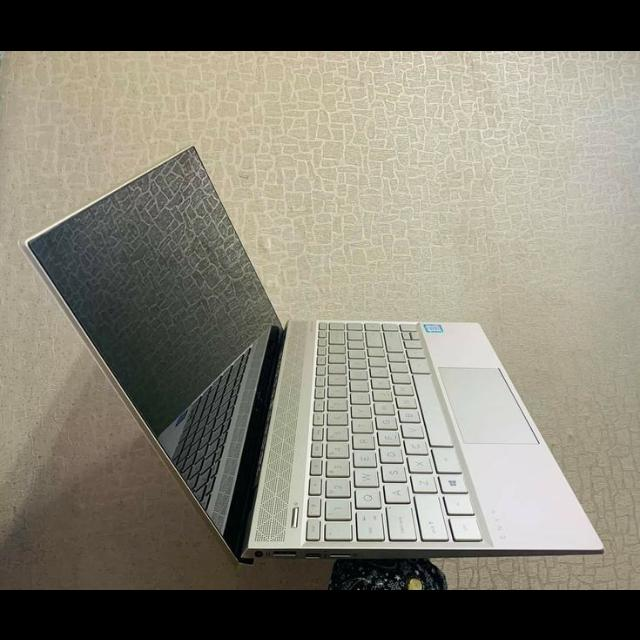laptop: (24, 144, 604, 560)
